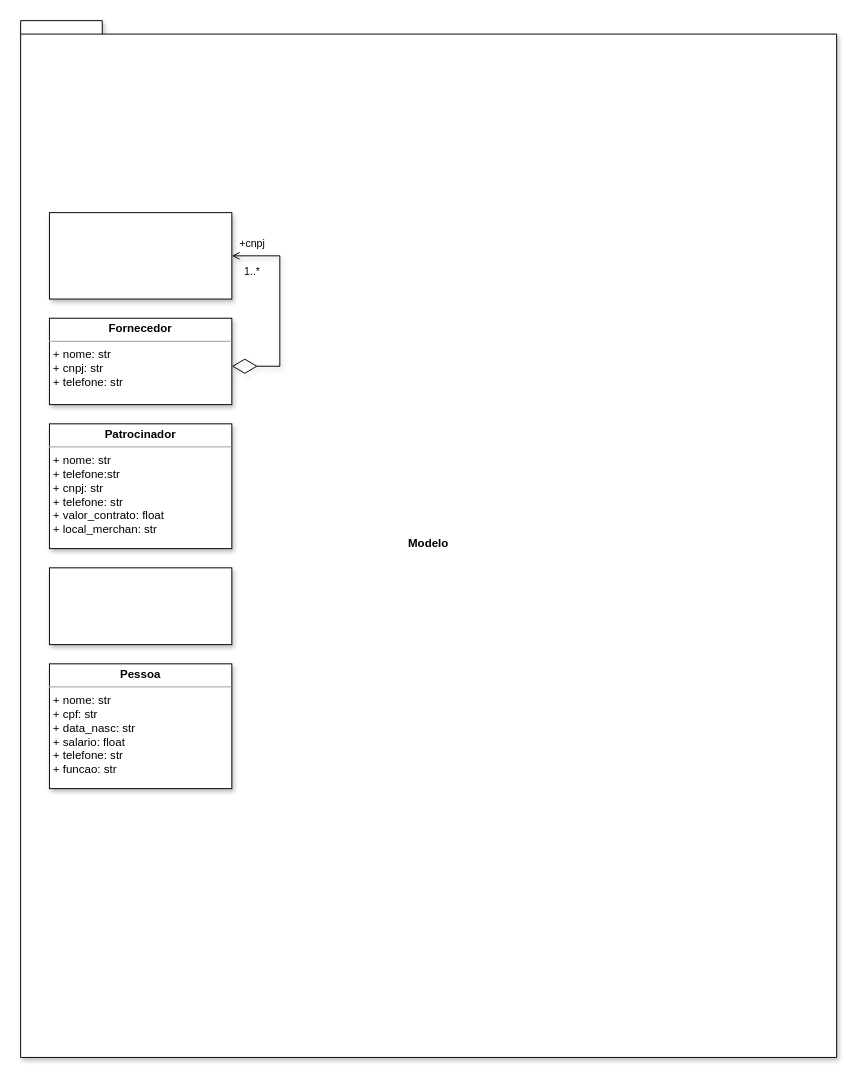
This 859x1081 diagram has some shape labels left out. Each missing label, with the centre of its shape:
"Produto + nome: str + preco: float + qtd: int" belongs at (x=141, y=257).
"Usuario + login: str + senha: str + tipo: str" belongs at (x=141, y=607).
